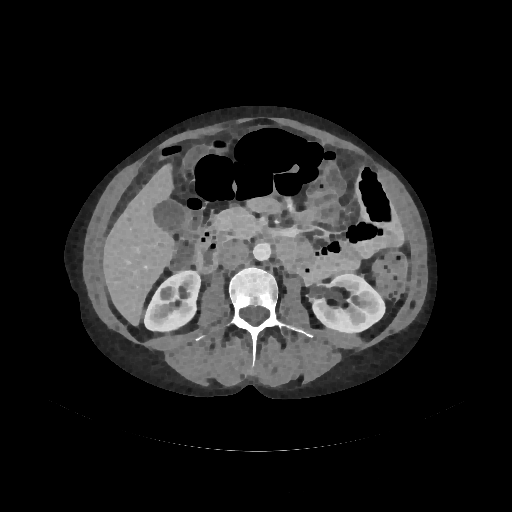Lesion: (156, 283, 181, 307)
